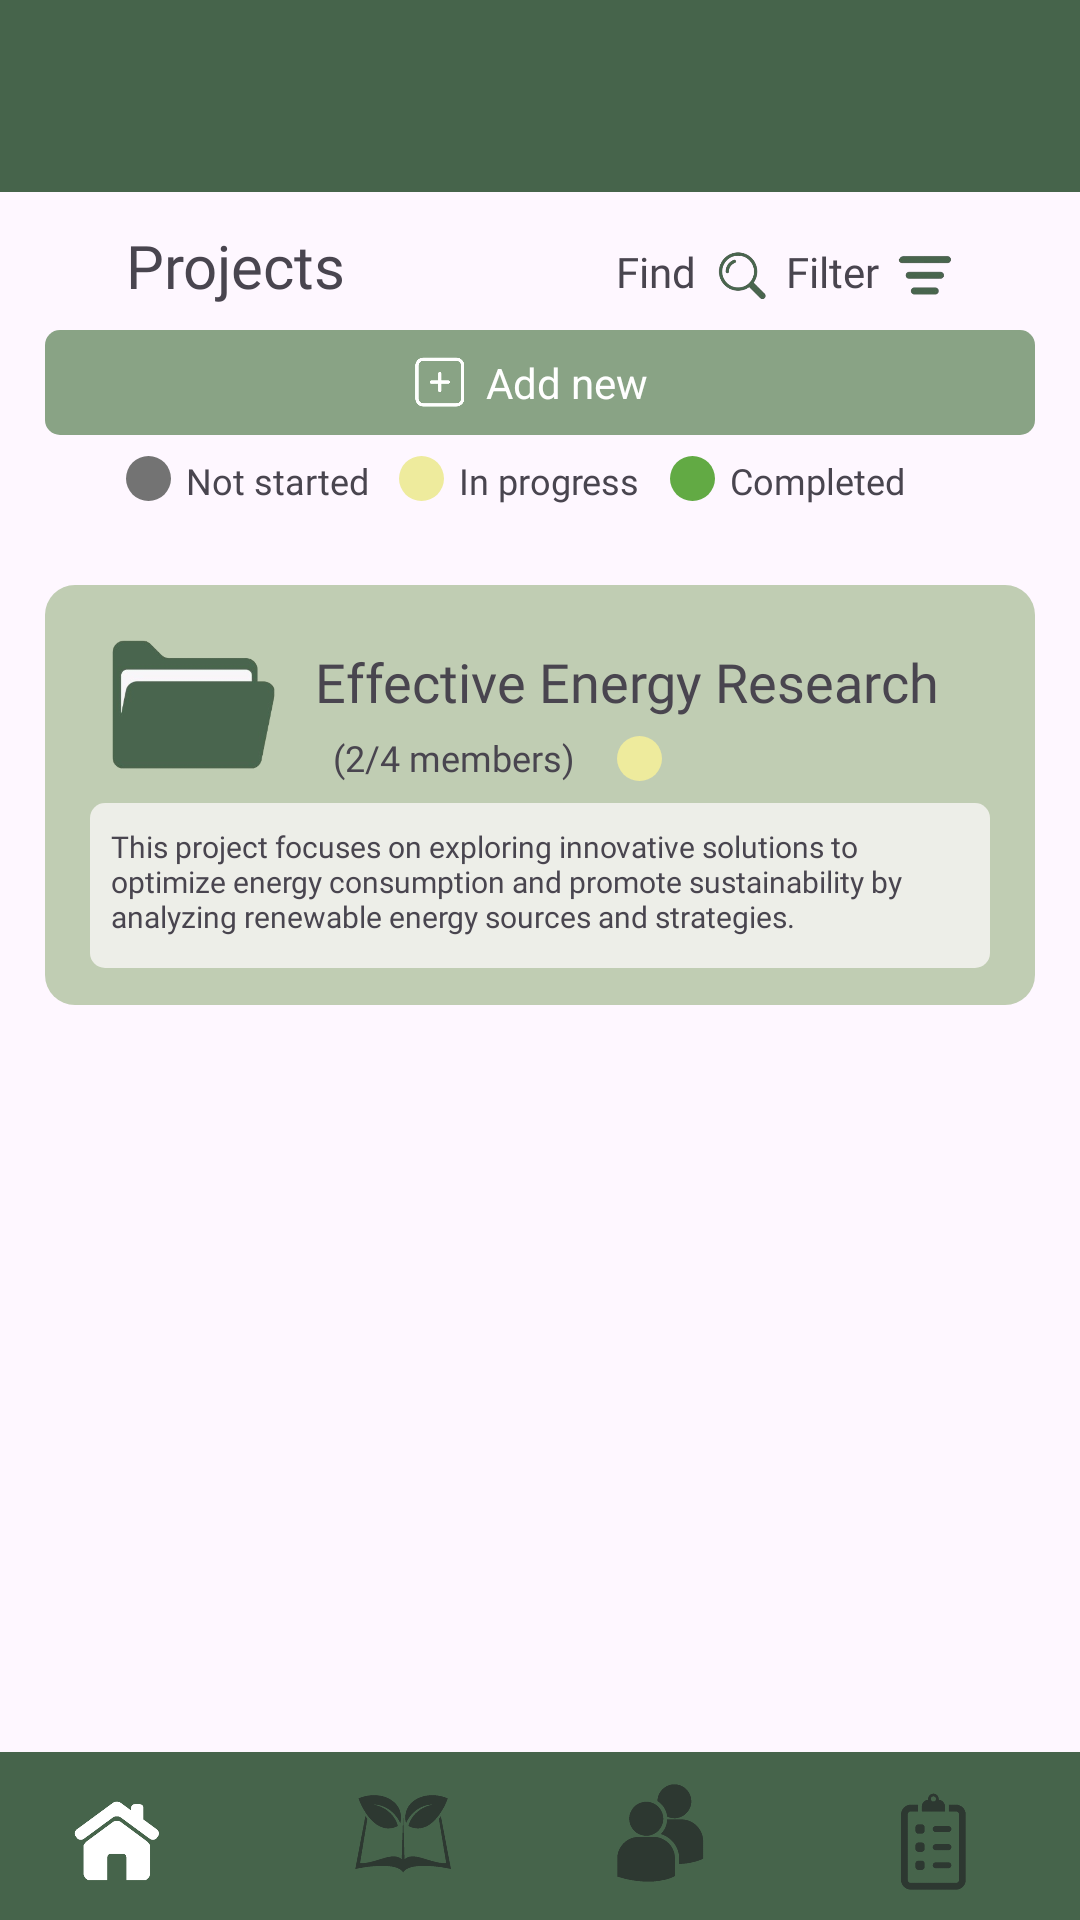

Icon bounding boxes for this 1080px×1920px phone screenshot, format (x1, y1, x2, y2):
collab search: (719, 252, 766, 299)
